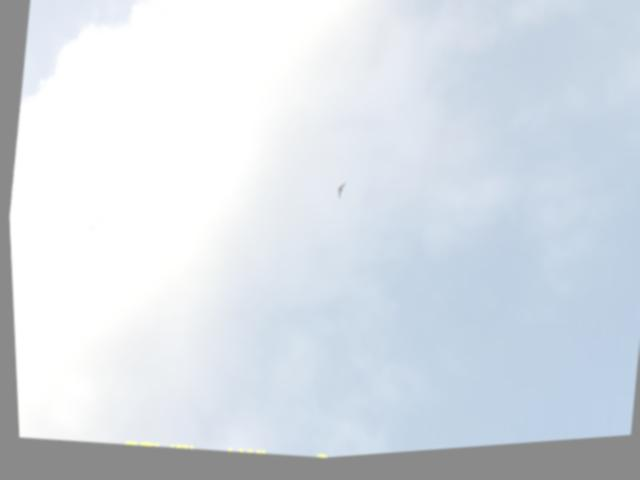plane: (333, 185, 347, 207)
